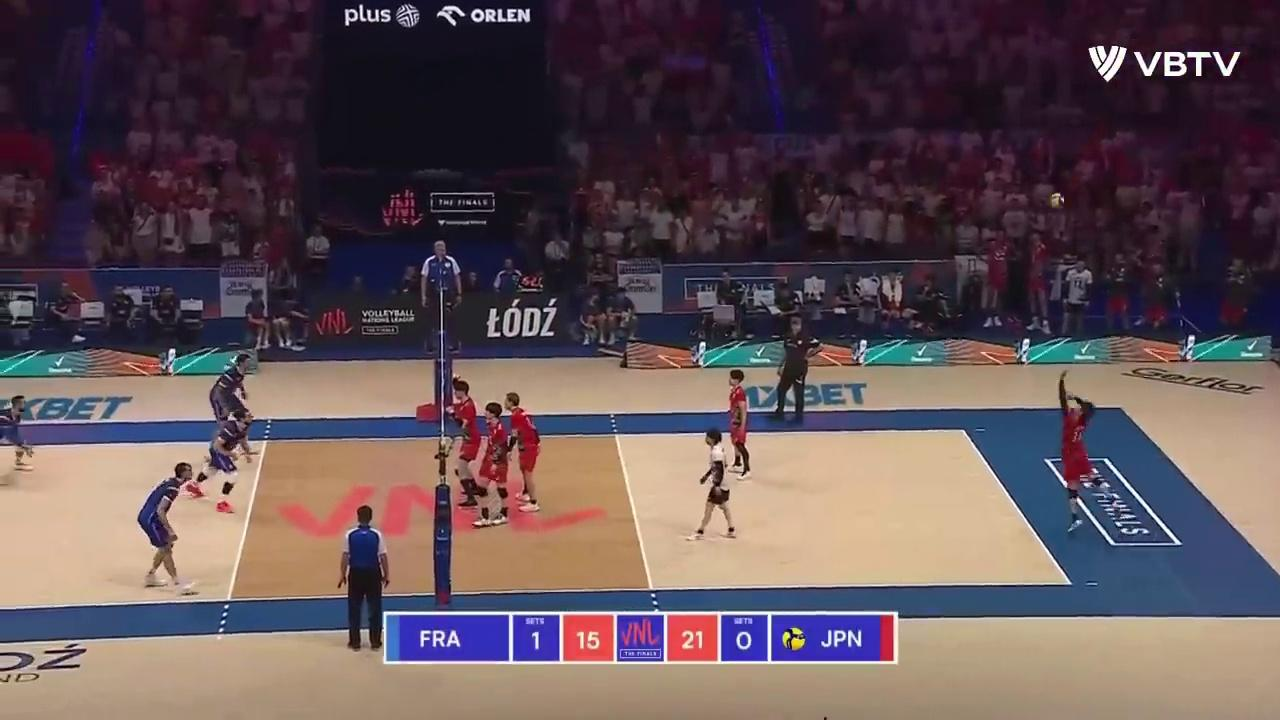ball: (1049, 192, 1066, 209)
